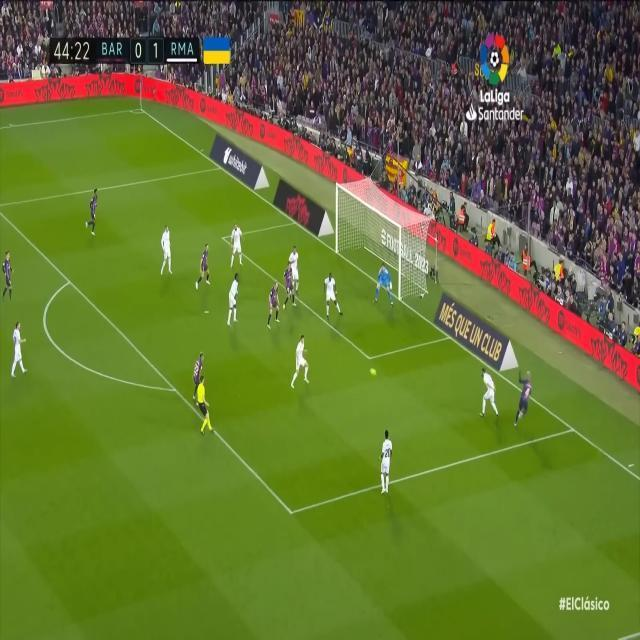goalkeeper: (370, 255, 397, 340)
player: (7, 303, 57, 431), (366, 413, 414, 514), (156, 212, 188, 309), (286, 328, 321, 413), (511, 348, 545, 433), (80, 154, 106, 265), (289, 234, 316, 338), (480, 350, 507, 443), (316, 265, 353, 332), (199, 219, 224, 312), (0, 239, 27, 322), (268, 267, 287, 356), (229, 269, 250, 332), (231, 210, 247, 277)
referee: (196, 364, 231, 459)
